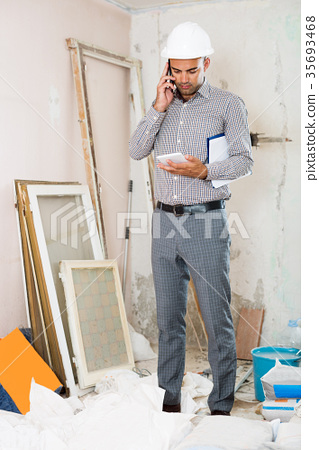phone: (156, 62, 178, 103)
talk: (150, 59, 204, 114)
